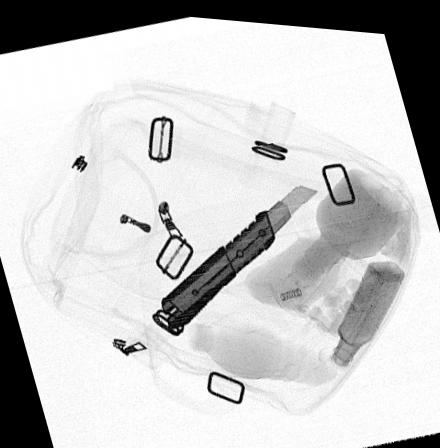Knife: (160, 177, 319, 325)
